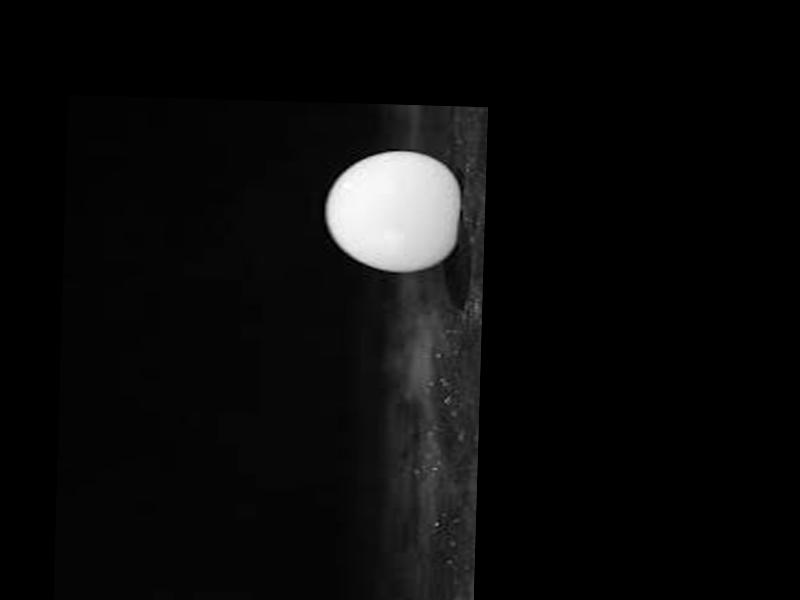Eggs: (323, 149, 459, 274)
